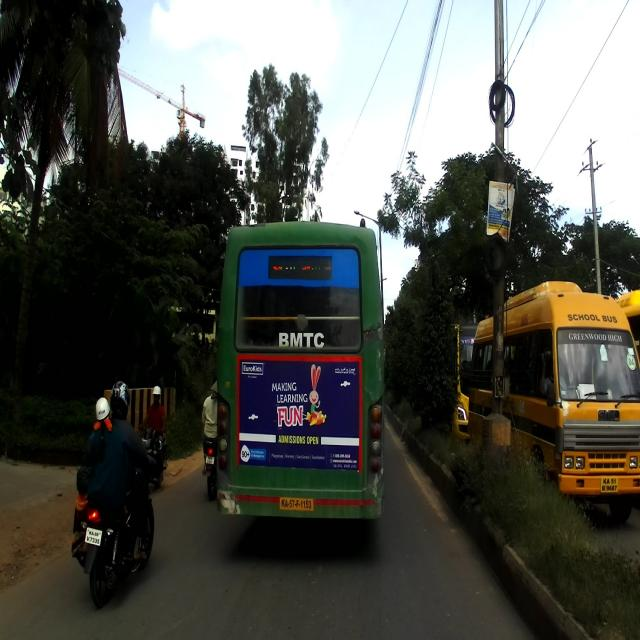bus: (214, 211, 384, 522)
mini-bus: (465, 278, 639, 522)
motorcycle: (80, 439, 162, 606)
